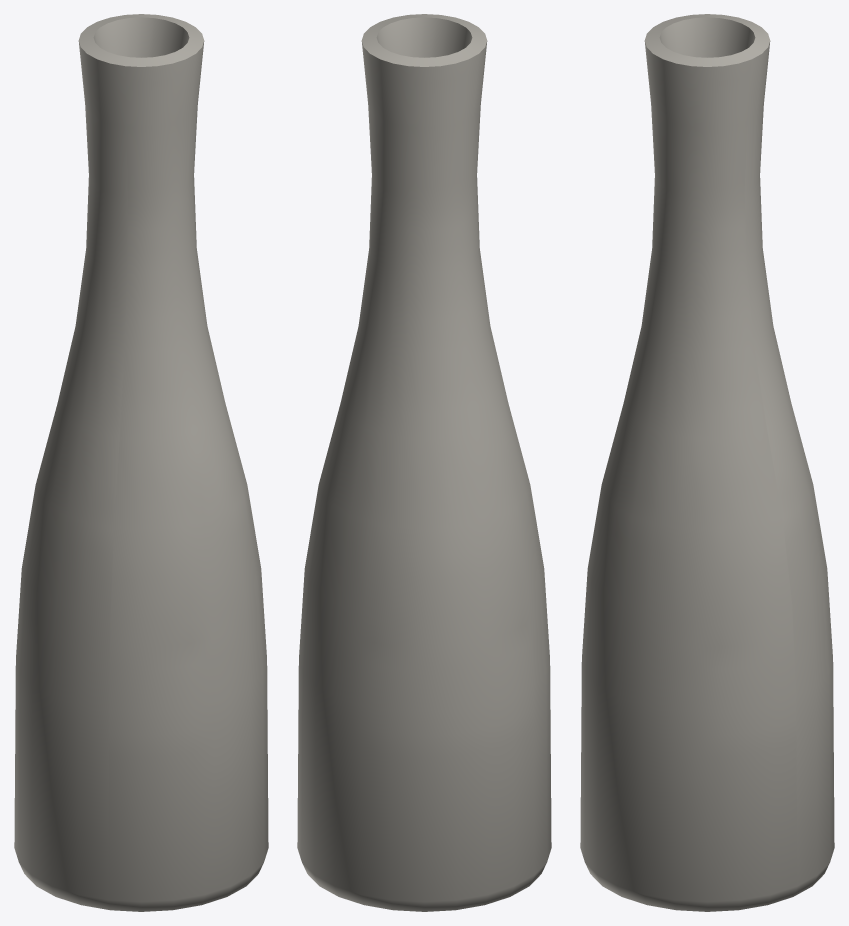
Rendered from vase.glb.
3 renders of one model, left to right at view 1: azimuth 30°, elevation 25°; view 2: azimuth 150°, elevation 25°; view 3: azimuth 270°, elevation 25°, orthographic.
Parts seen in each view (by area): view 1: vase; view 2: vase; view 3: vase.
Boxes of the visible parts, x1,y1,x2,y2 form: vase: [14, 14, 268, 911]; vase: [297, 14, 551, 911]; vase: [580, 14, 834, 911].
Bounding box in the file's own units: 0.0835 × 0.3002 × 0.0835.
Materials: 1 (1 with a texture image).
